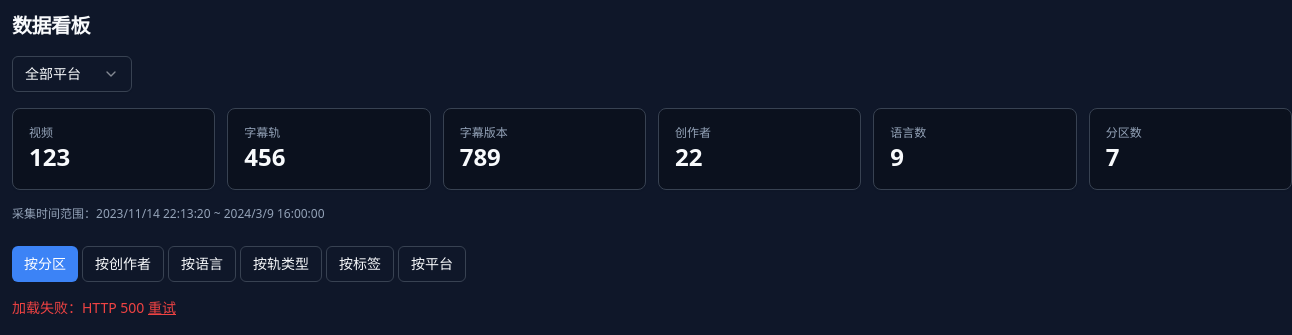
Test: 聚合失败：错误行 + 重试恢复；空数据提示
This screenshot has width=1292, height=335.
Expected: the text "加载失败：HTTP 500 重试" is shown, [12,298,176,318]
Click the button "重试". click: click(162, 308)
box: [148,298,176,318]
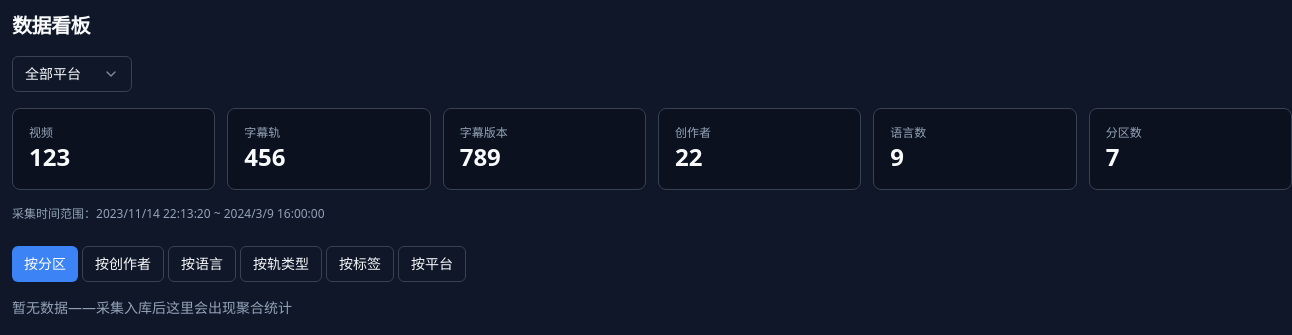
Expected: the text "暂无数据——采集入库后这里会出现聚合统计" is shown, [12,298,292,317]
